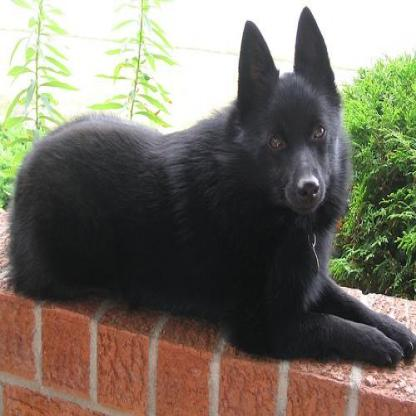schipperke: (7, 2, 414, 373)
